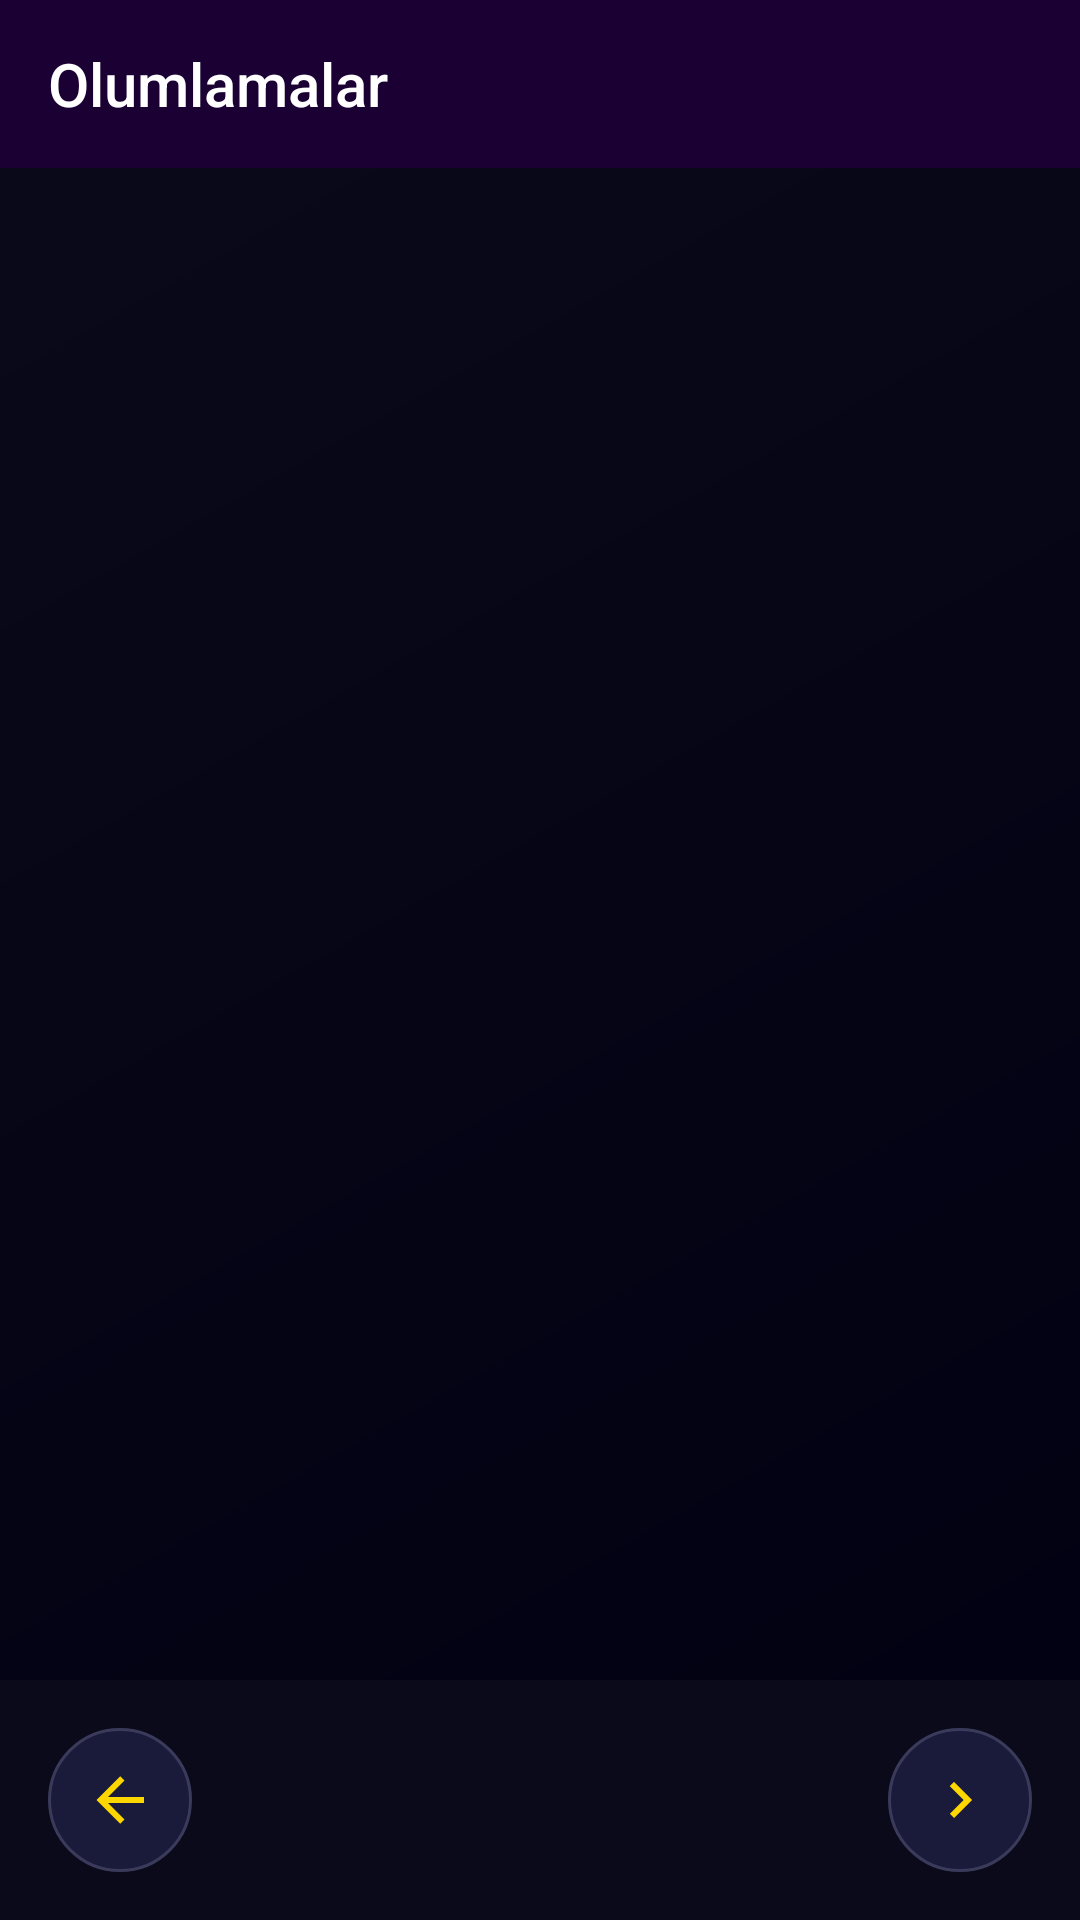

Icons on this 1080w x 1920h Android screen, each with the point to tap as point (x, y):
Sonraki: point (960, 1800)
Önceki: point (120, 1800)
